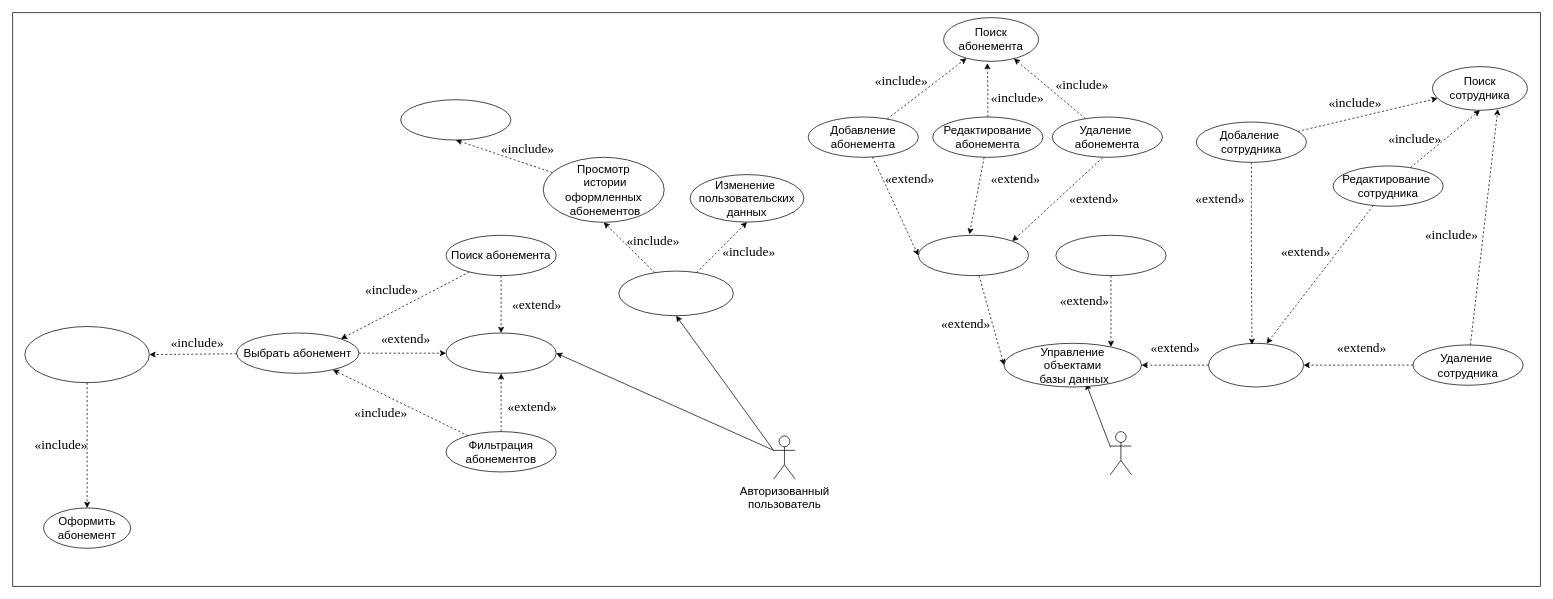
This 1553x599 diagram has some shape labels left out. Here are the shapes that lost their labels. From the top down, the centre of each, then its label:
the point at 455,119: Отменить абонемент
the point at 973,255: Управление абонементами
the point at 1110,255: Управление статуса об абонементе
the point at 675,293: Просмотр личного кабинета
the point at 86,354: Просмотр информации об абонементе
the point at 500,352: Найти абонемент
the point at 1256,365: Управление сотрудниками
the point at 1121,453: Администратор
